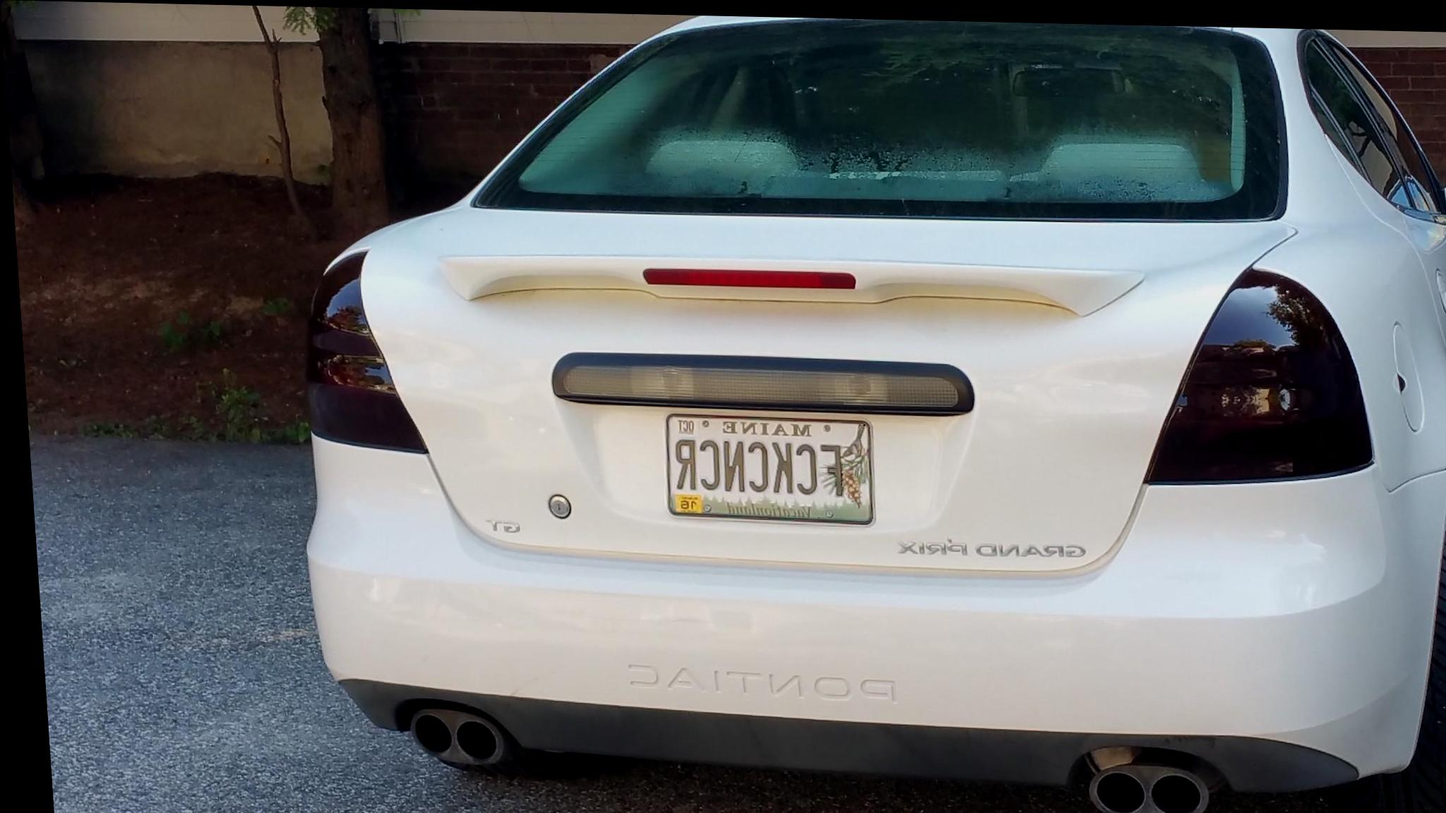License_Plate: (635, 403, 886, 540)
